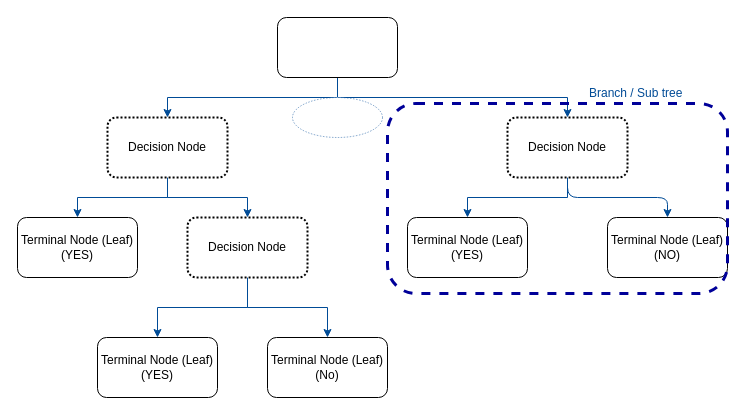
Some shapes in this 746 by 415 pixel diagram are drawn without their labels. Each missing label, with the box of its shape:
Root node Condition evaluation: (276, 16, 398, 78)
Splitting: (292, 97, 382, 137)
